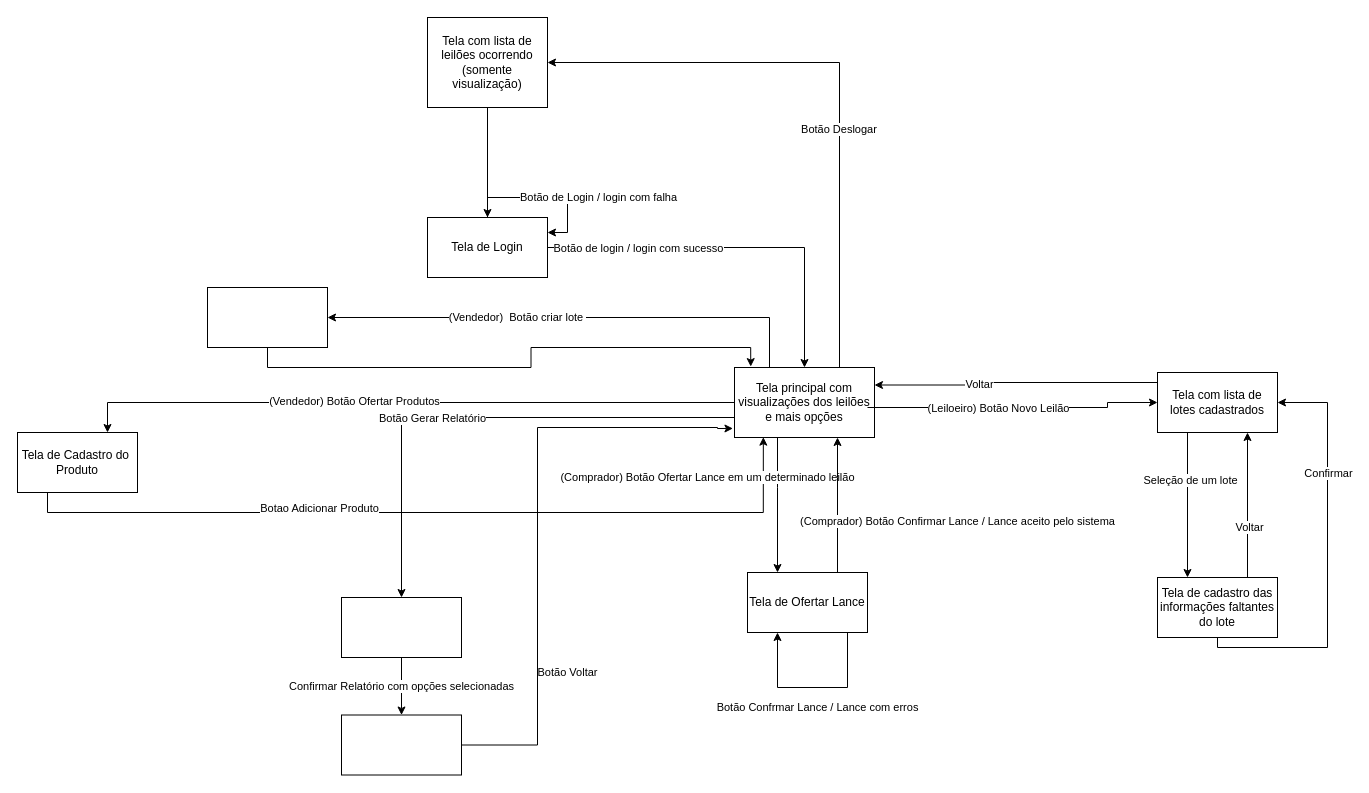
Some shapes in this 1369 by 793 pixel diagram are drawn without their labels. The shapes that lost their labels are listed below. From the top down, each one's centre as x and y in pixels, then its label:
the point at 267,317: Tela de Cadastro de lote
the point at 401,627: Tela para Gerar Relatórios
the point at 401,744: Apresentação do relatório
